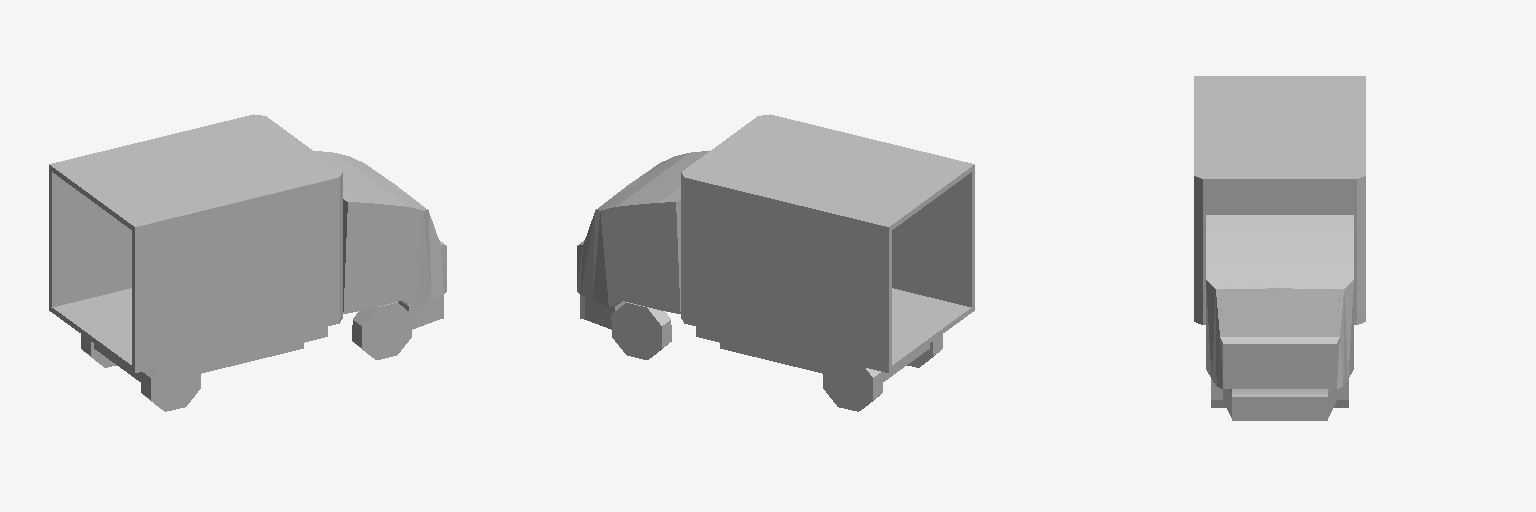
The model's file is truck.obj.
The picture shows the model from 3 angles: view 1: azimuth 30°, elevation 25°; view 2: azimuth 150°, elevation 25°; view 3: azimuth 270°, elevation 25°; orthographic projection.
Visible parts, largest first — view 1: truck; view 2: truck; view 3: truck.
Boxes of the visible parts, box(x1,y1,x2,y2) form: truck: box(49, 114, 446, 411); truck: box(577, 114, 974, 411); truck: box(1194, 76, 1365, 420).
Bounding box in the file's own units: 10.24 × 5.98 × 4.66.